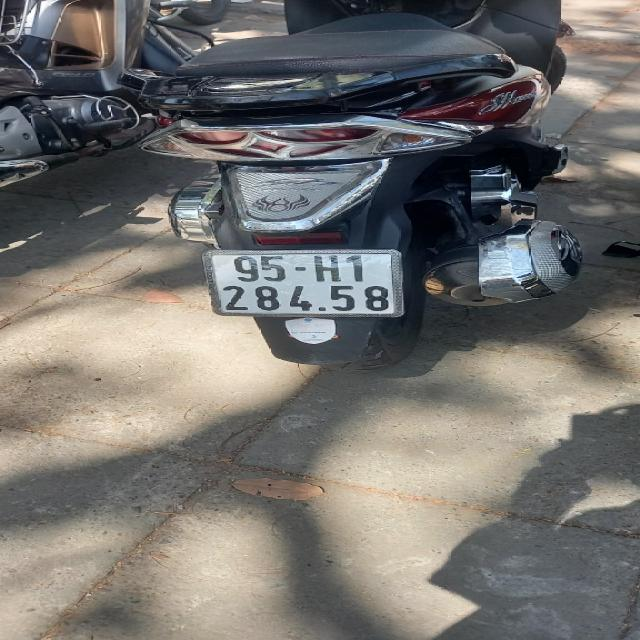1: (346, 255, 367, 282)
2: (221, 286, 251, 311)
4: (288, 284, 314, 312)
5: (258, 255, 288, 282), (324, 284, 354, 310)
8: (253, 284, 285, 313), (363, 285, 391, 312)
9: (231, 256, 260, 282)
H: (312, 255, 342, 282)
